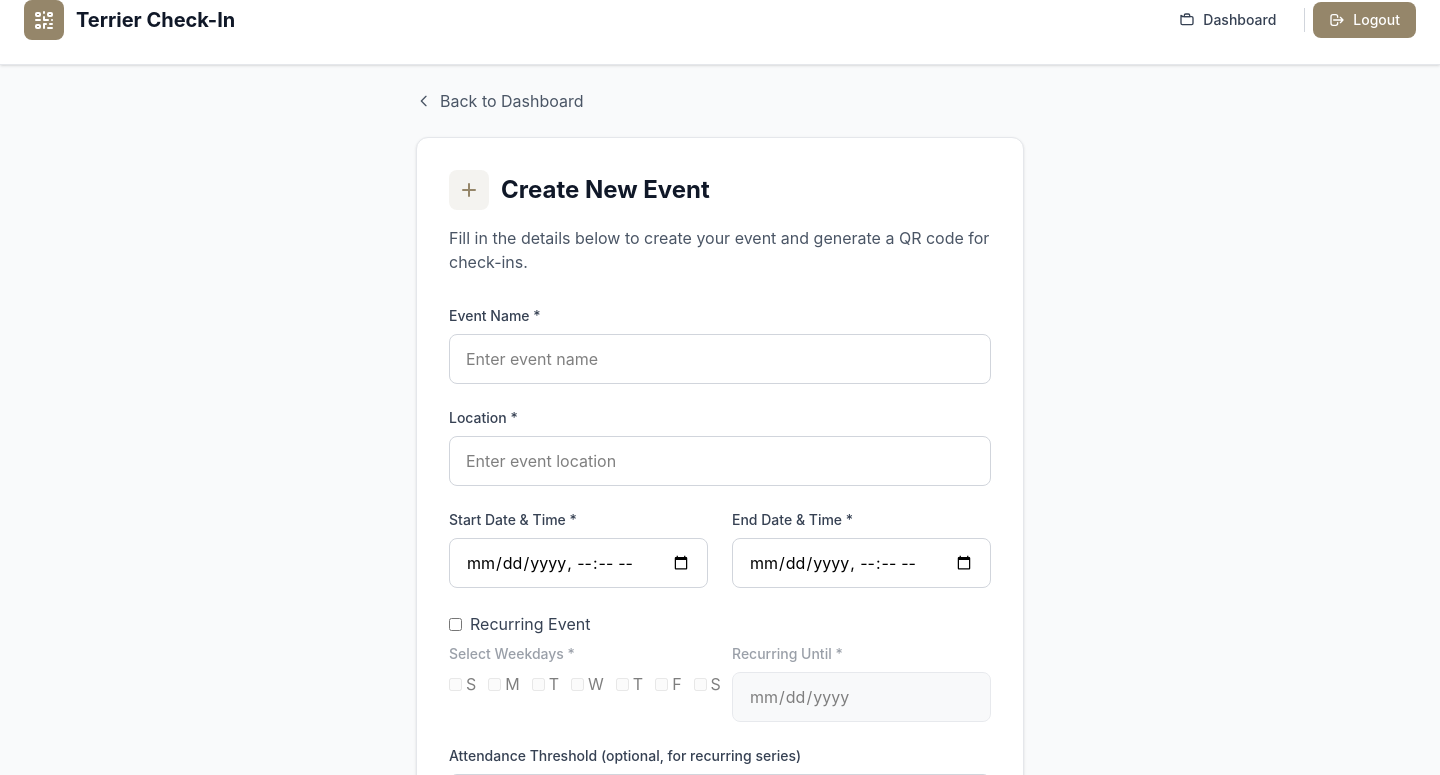
Scenario: EventFormPage › shows loading spinner and disables button during submission
The width and height of the screenshot is (1440, 775).
# Fill out required fields
Type "Test Event" into the field labelled "Event Name *" at (720,359), box [449, 334, 991, 384]
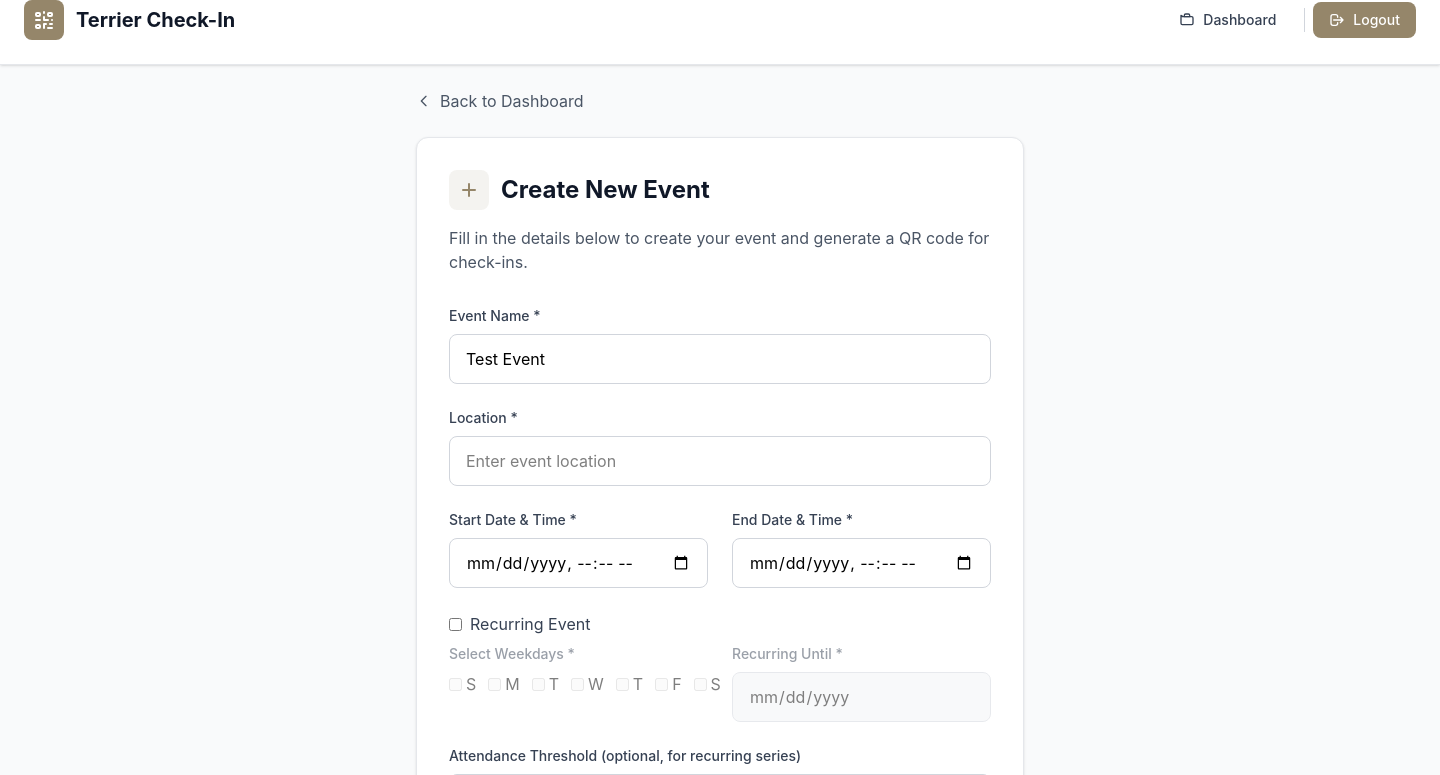
Type "Test Location" into the field labelled "Location *" at (720,461), box [449, 436, 991, 486]
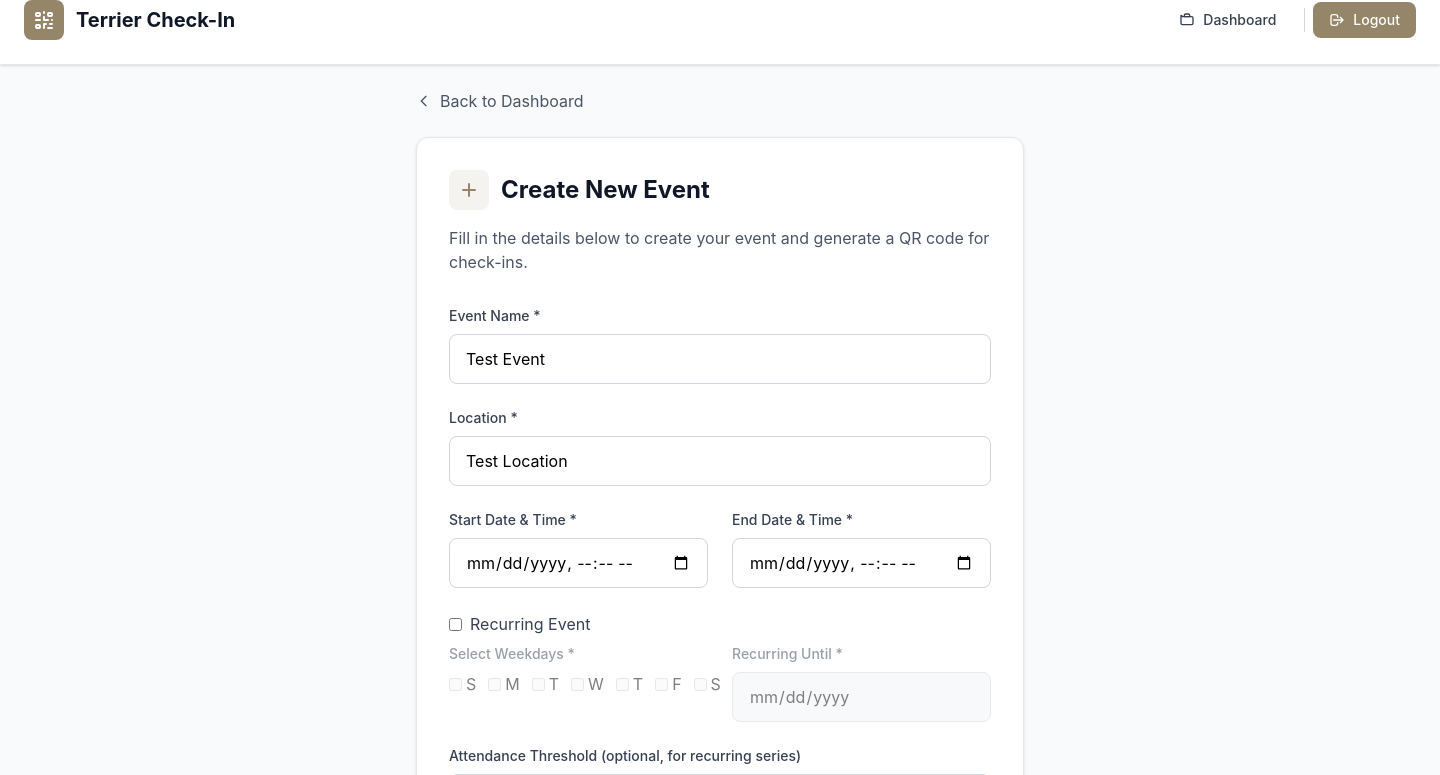
Type "2024-12-01T10:00" into the field labelled "Start Date & Time *" at (578,563), box [449, 538, 708, 588]
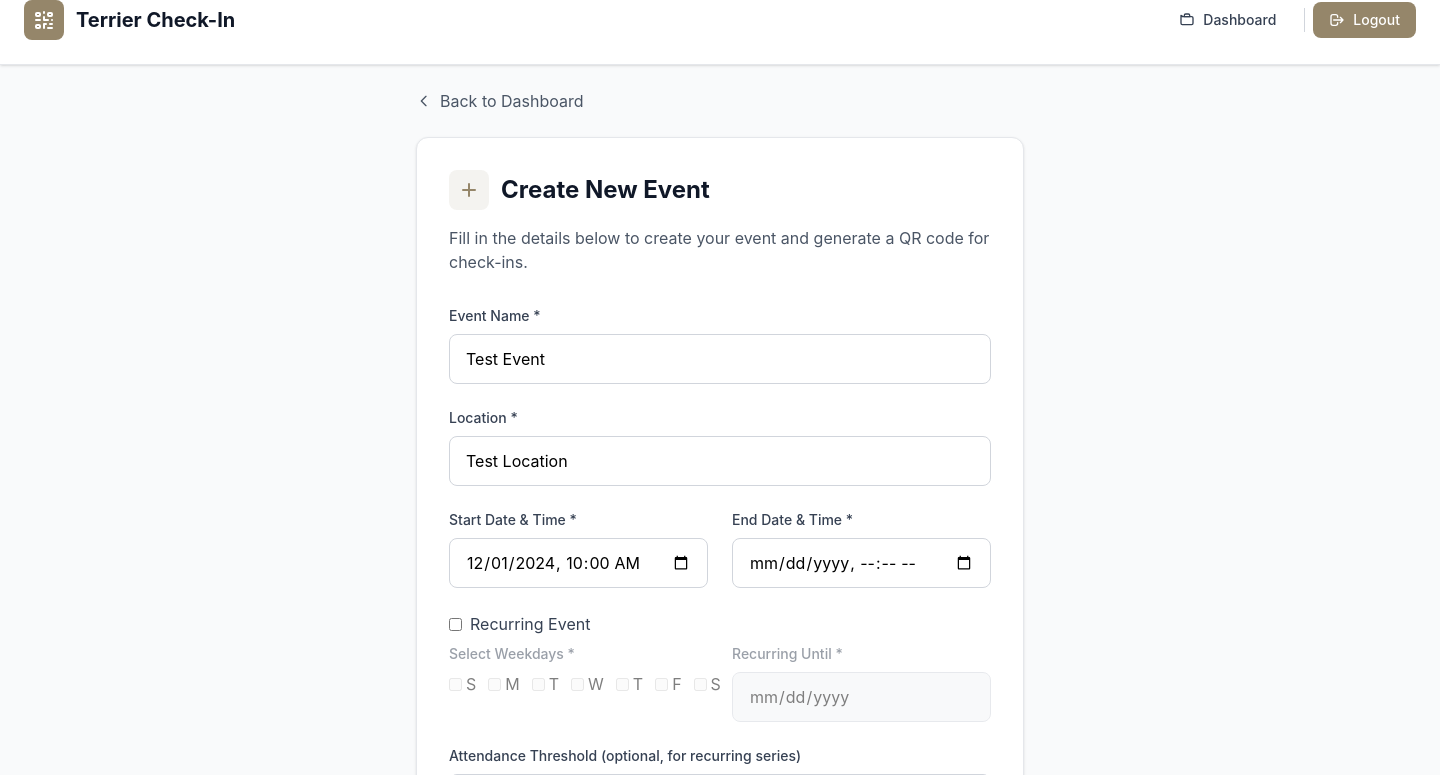
Type "2024-12-01T12:00" into the field labelled "End Date & Time *" at (862,563), box [732, 538, 991, 588]
(page scrolled)
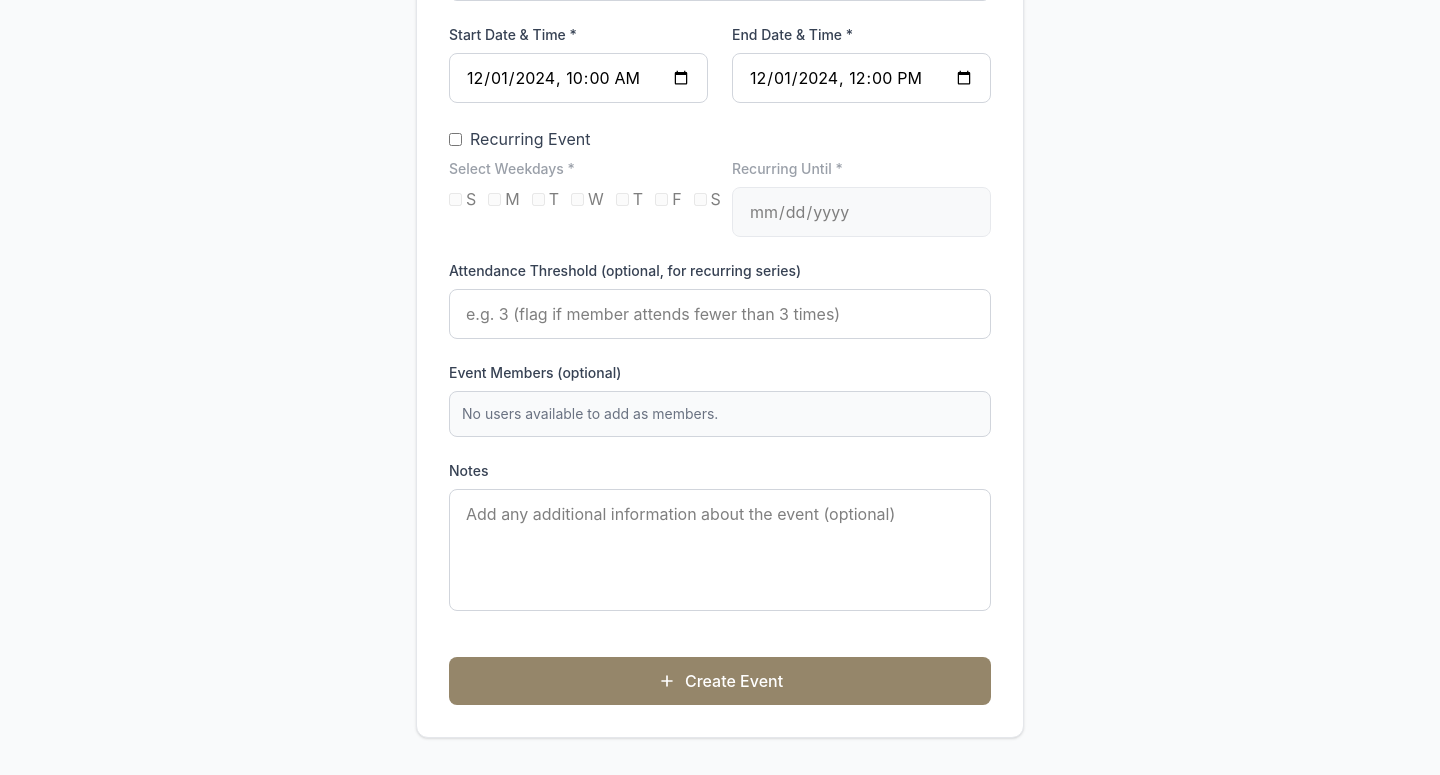
Click the button "Create Event" at (720,681), box [449, 657, 991, 705]
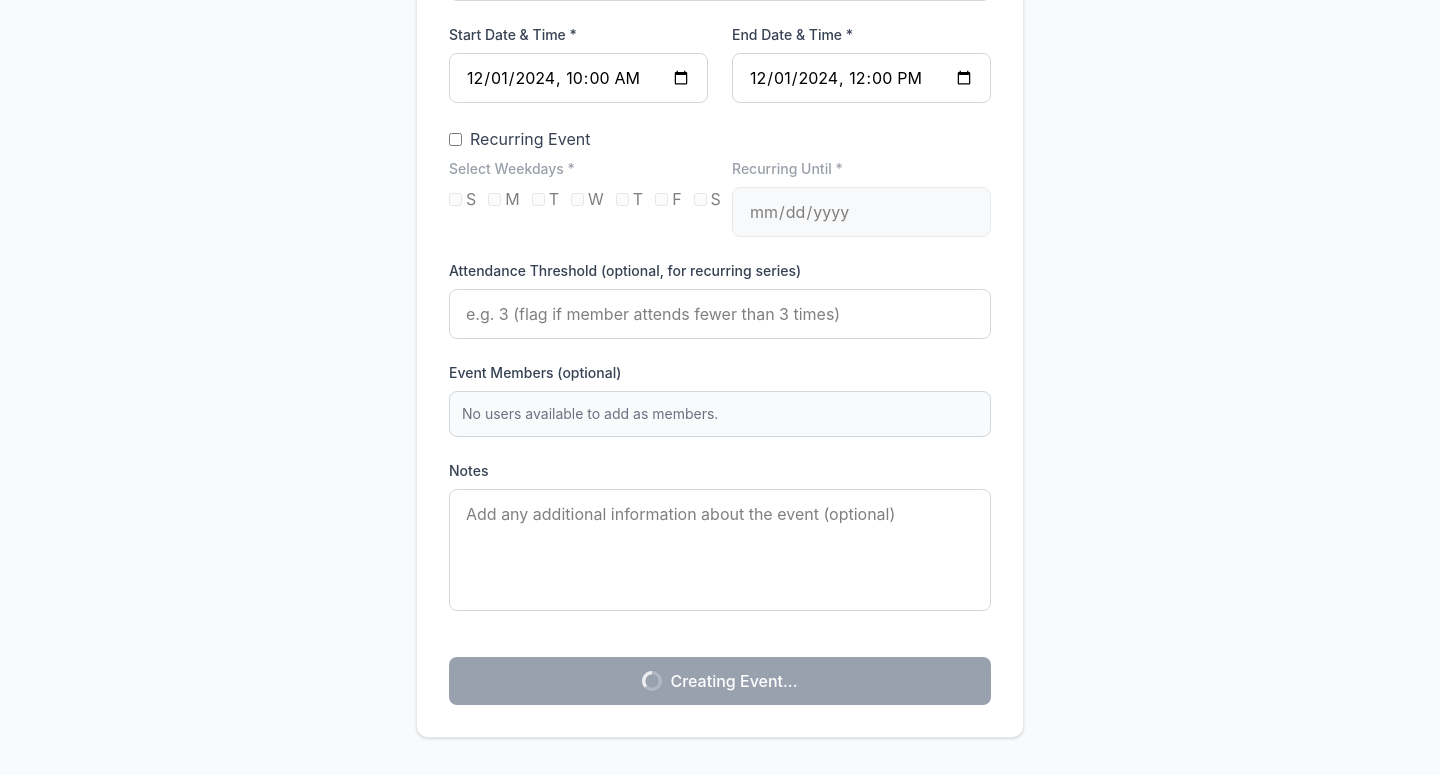
Expected: the text "Creating Event..." is shown, [670, 669, 798, 693]
Expected: the button "Creating Event..." is disabled, [449, 657, 991, 705]
Expected: the icon with class "animate-spin" is shown, [642, 671, 662, 691]
